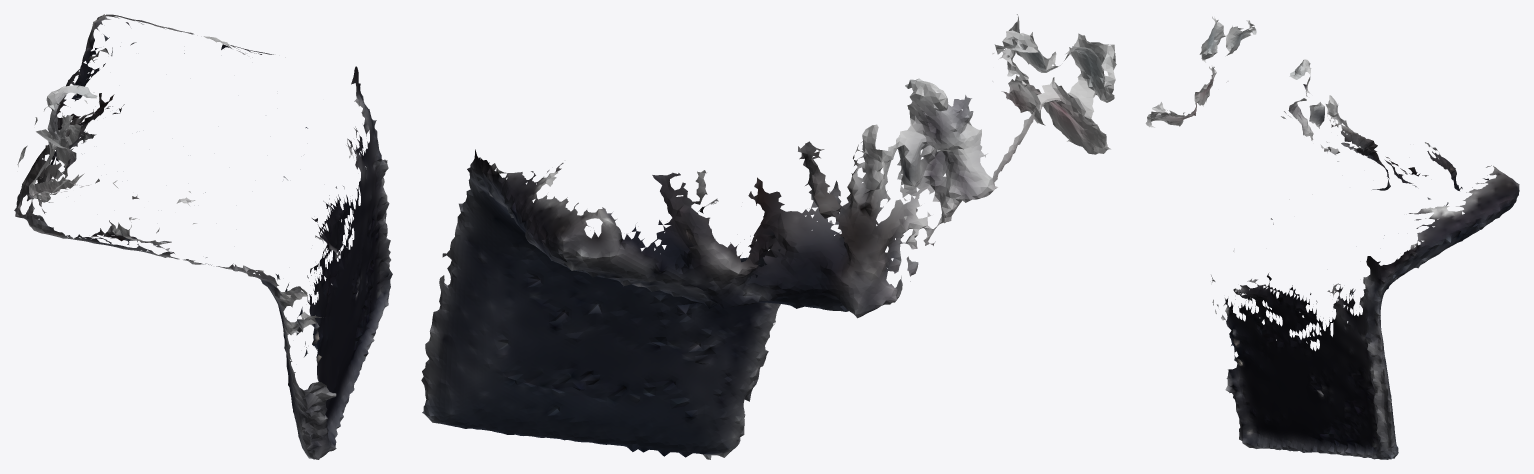
Rendered from super_clean.glb.
3 renders of one model, left to right at view 1: azimuth 30°, elevation 25°; view 2: azimuth 150°, elevation 25°; view 3: azimuth 270°, elevation 25°, orthographic. The views are drawn at different scales.
Bounding box in the file's own units: 3.67 × 3.13 × 3.2.
